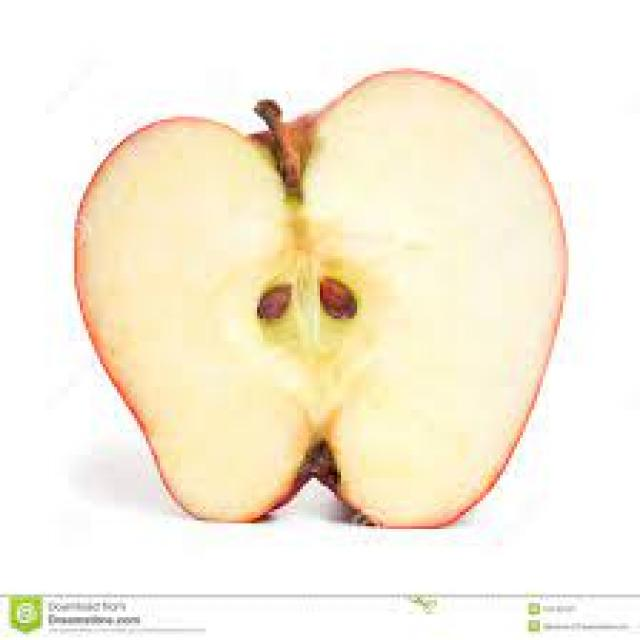Apple: (73, 73, 568, 524)
